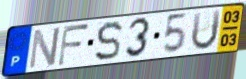3: (122, 16, 154, 61)
5: (161, 11, 191, 56)
F: (56, 23, 91, 68)
N: (27, 26, 62, 71)
S: (93, 20, 124, 63)
U: (190, 8, 223, 52)
